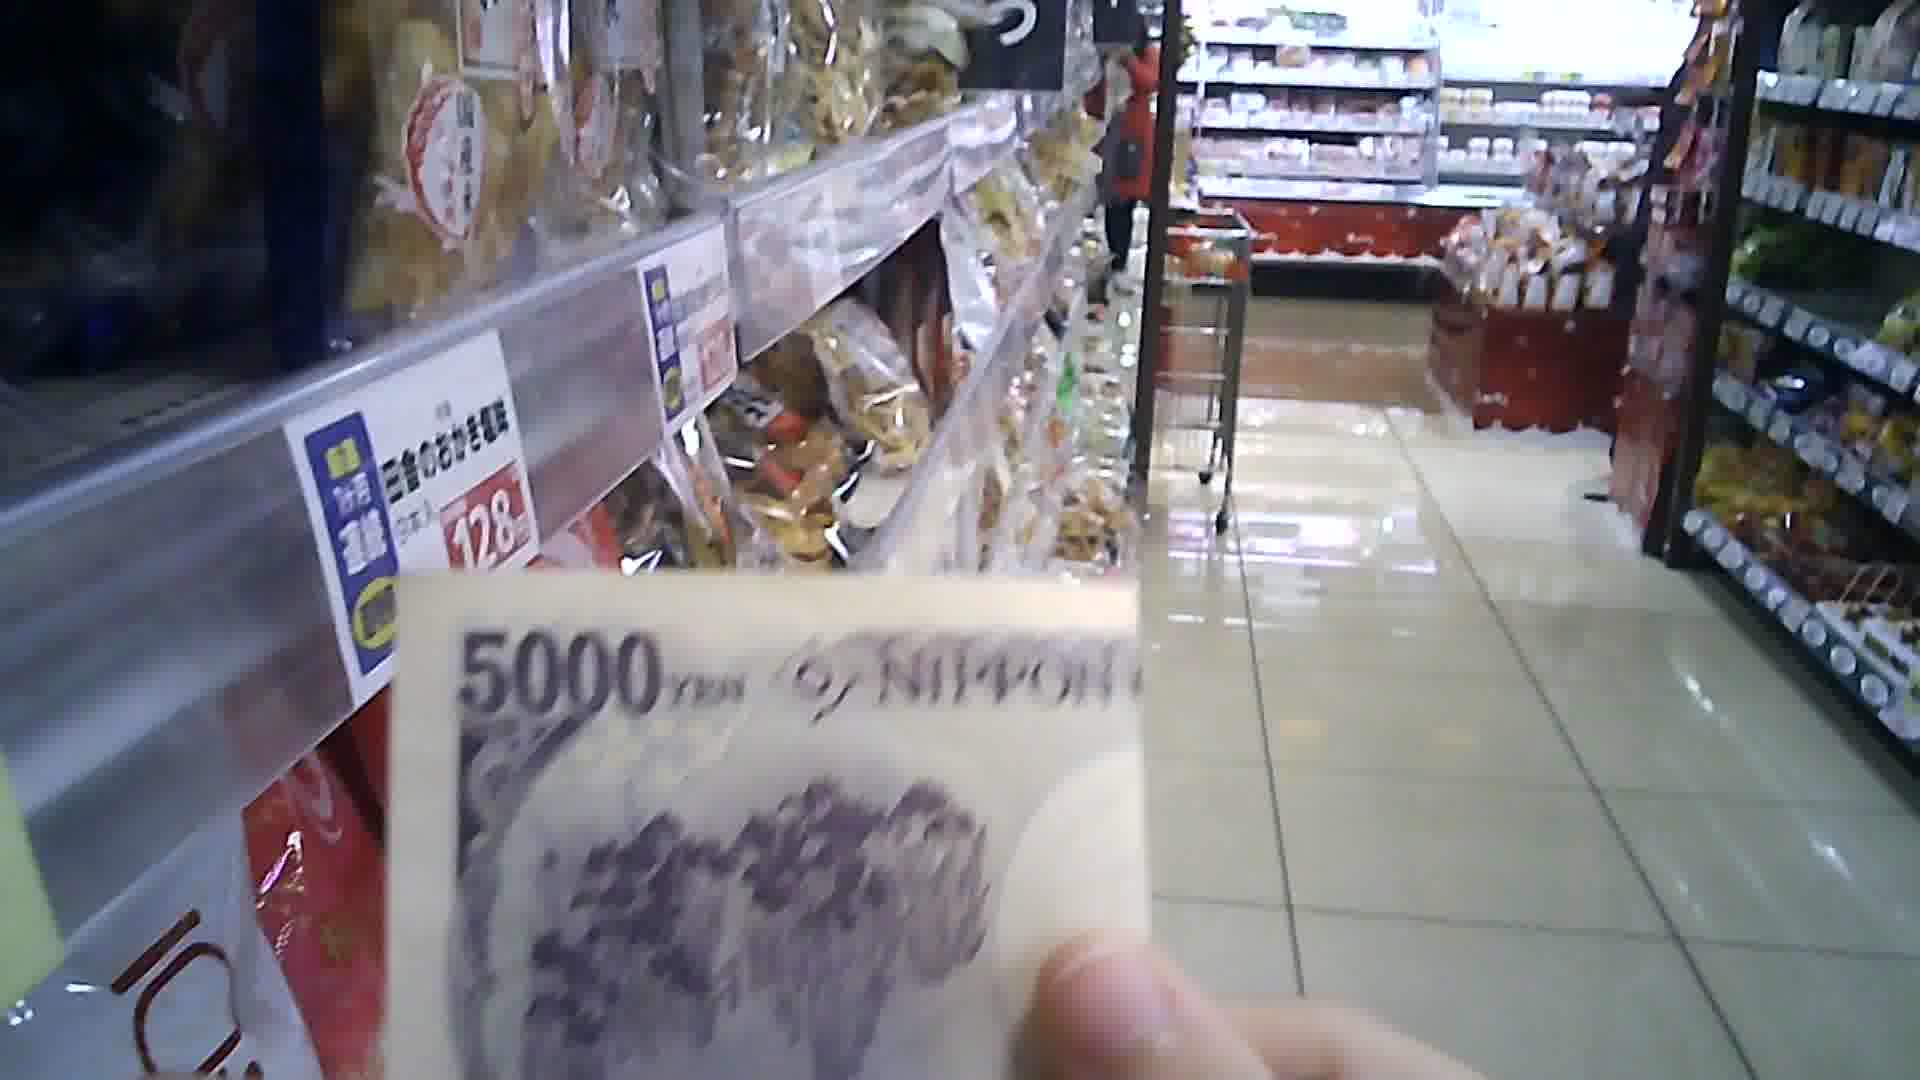5,000 Yen: (372, 535, 1170, 1069)
